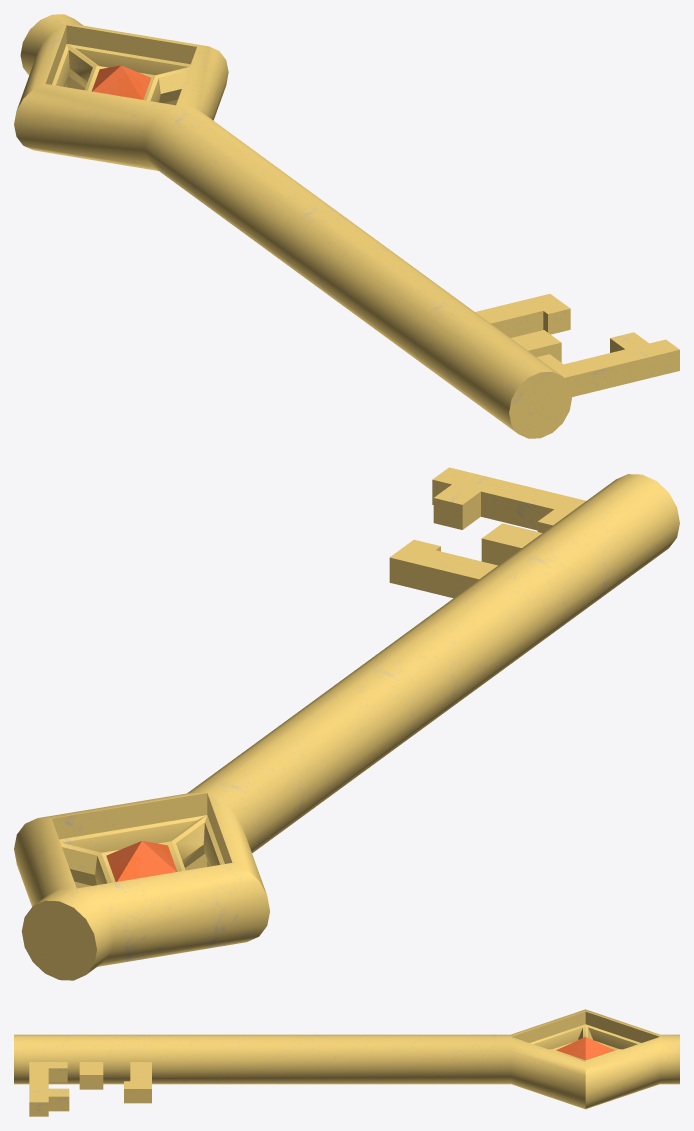
Rendered from SM_Key_00.fbx.
3 renders of one model, top to bottom at view 1: azimuth 30°, elevation 25°; view 2: azimuth 150°, elevation 25°; view 3: azimuth 270°, elevation 25°, orthographic. The views are drawn at different scales.
Parts seen in each view (by area): view 1: SM_Key_00; view 2: SM_Key_00; view 3: SM_Key_00.
Boxes of the visible parts, x1,y1,x2,y2 form: SM_Key_00: (14, 14, 679, 438); SM_Key_00: (14, 467, 679, 980); SM_Key_00: (14, 1009, 679, 1116).
Bounding box in the file's own units: 10.21 × 33.5 × 2.5.
